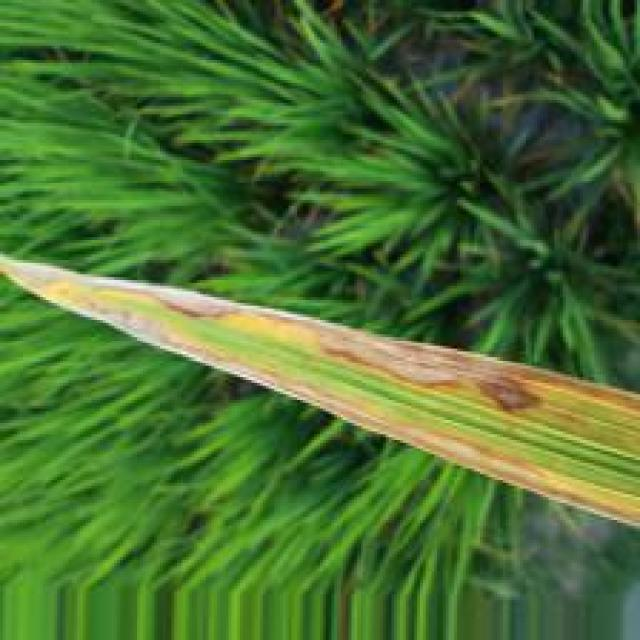Bacterial_Leaf_Blight: (0, 255, 640, 526)
